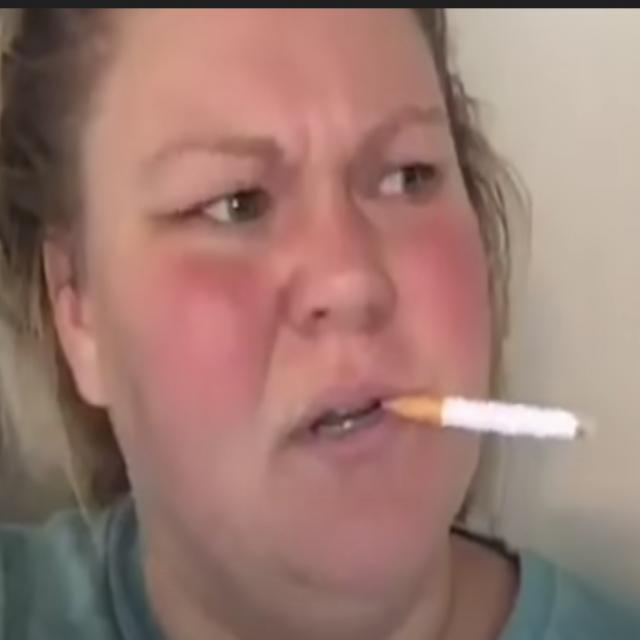cigarette: (379, 403, 592, 469)
